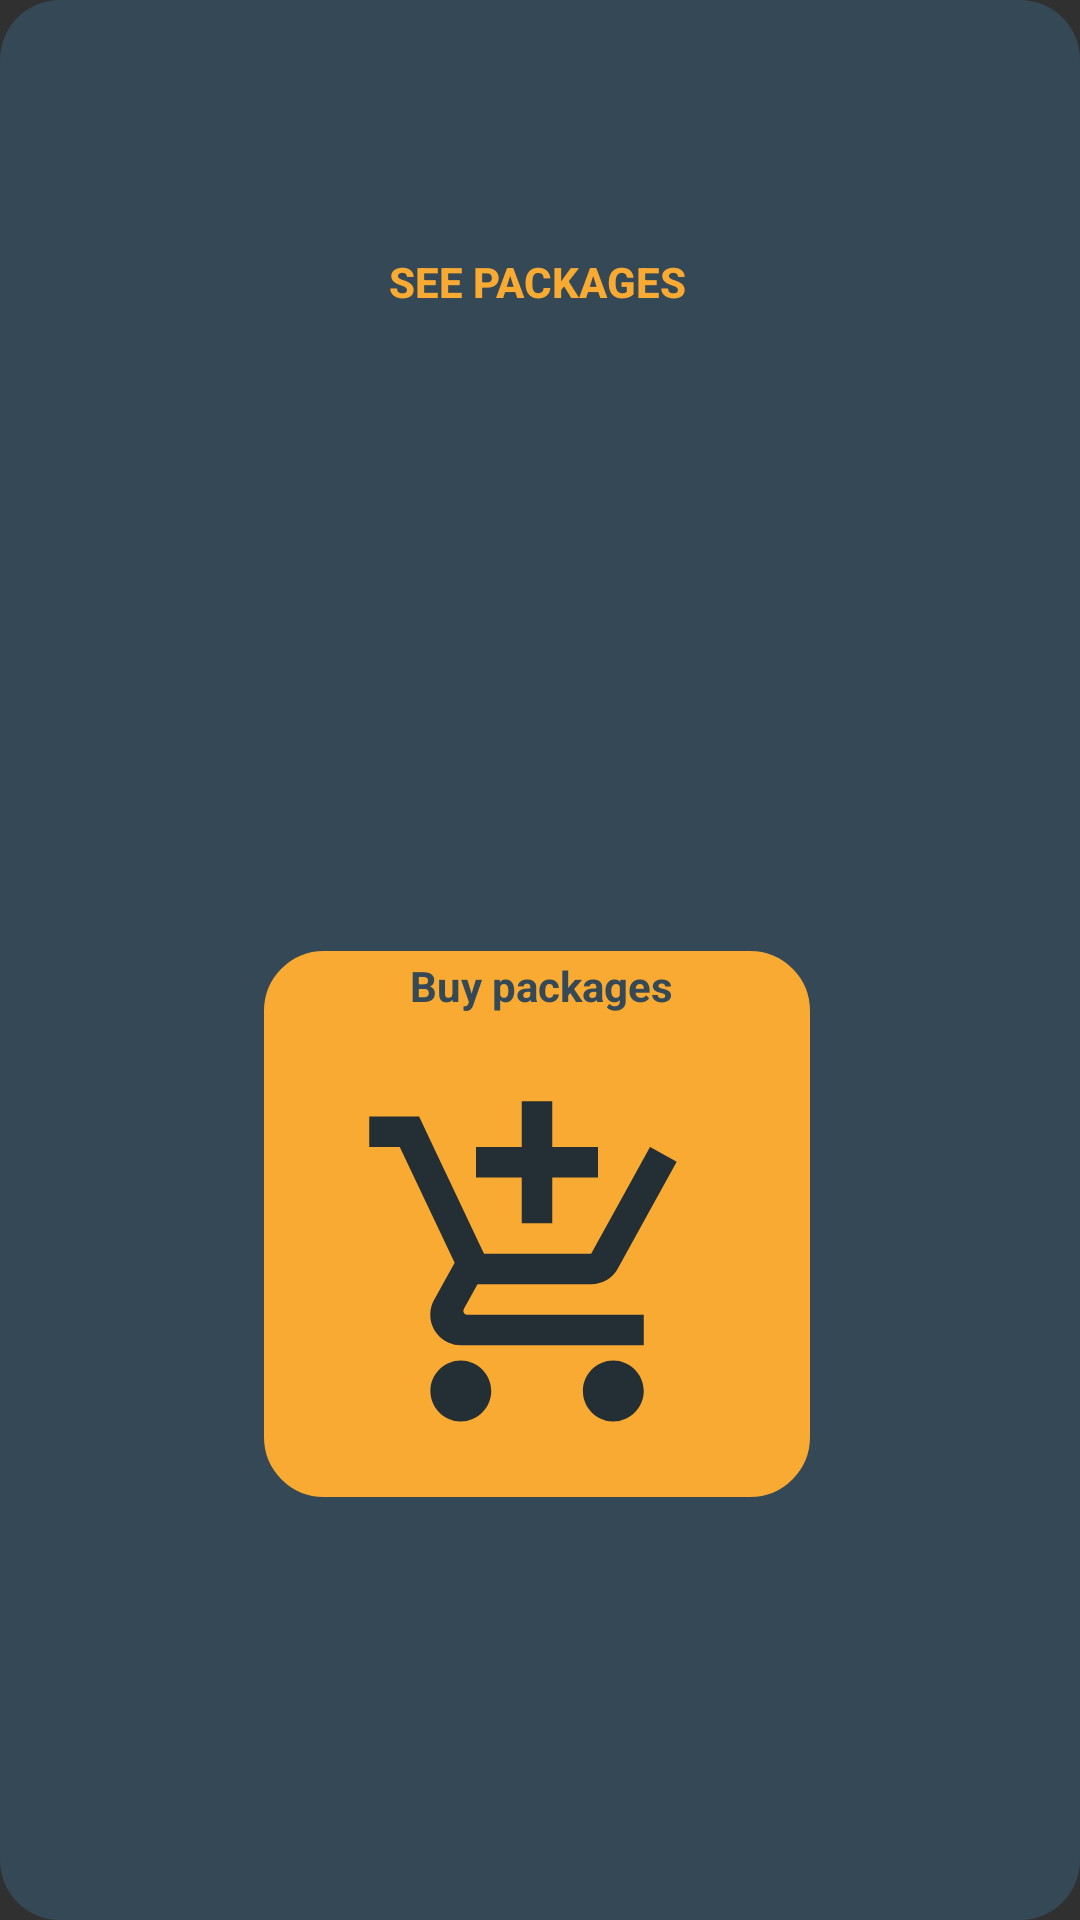

Icons on this 1080*1920 Android screen, each with the point to tap as (x,y):
add shopping: (523,1261)
